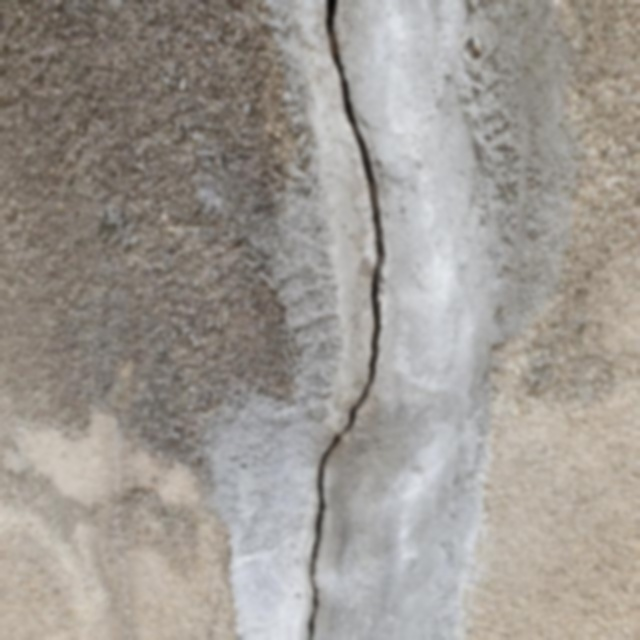SurfaceCrack: (258, 1, 418, 640)
